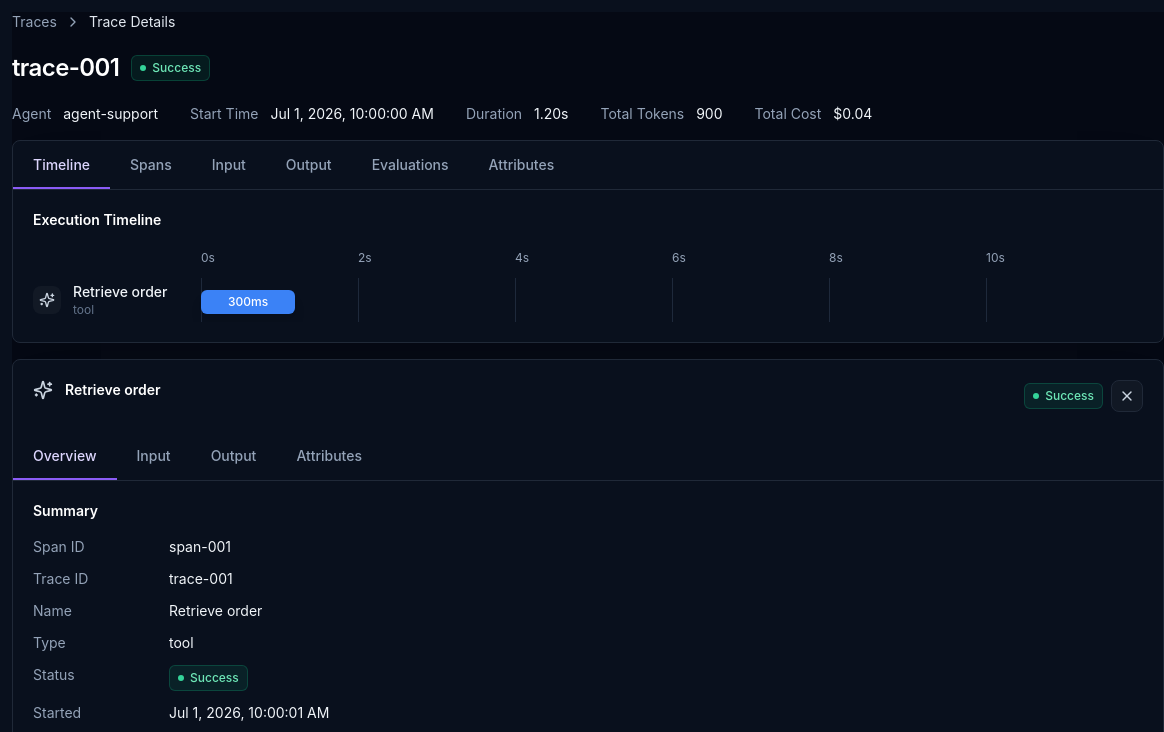
Test: TraceDetailsPage › switches main tabs and shows trace input/output content
The image size is (1164, 732).
Click the 1st tab "Input" at (229, 165), box [192, 141, 266, 189]
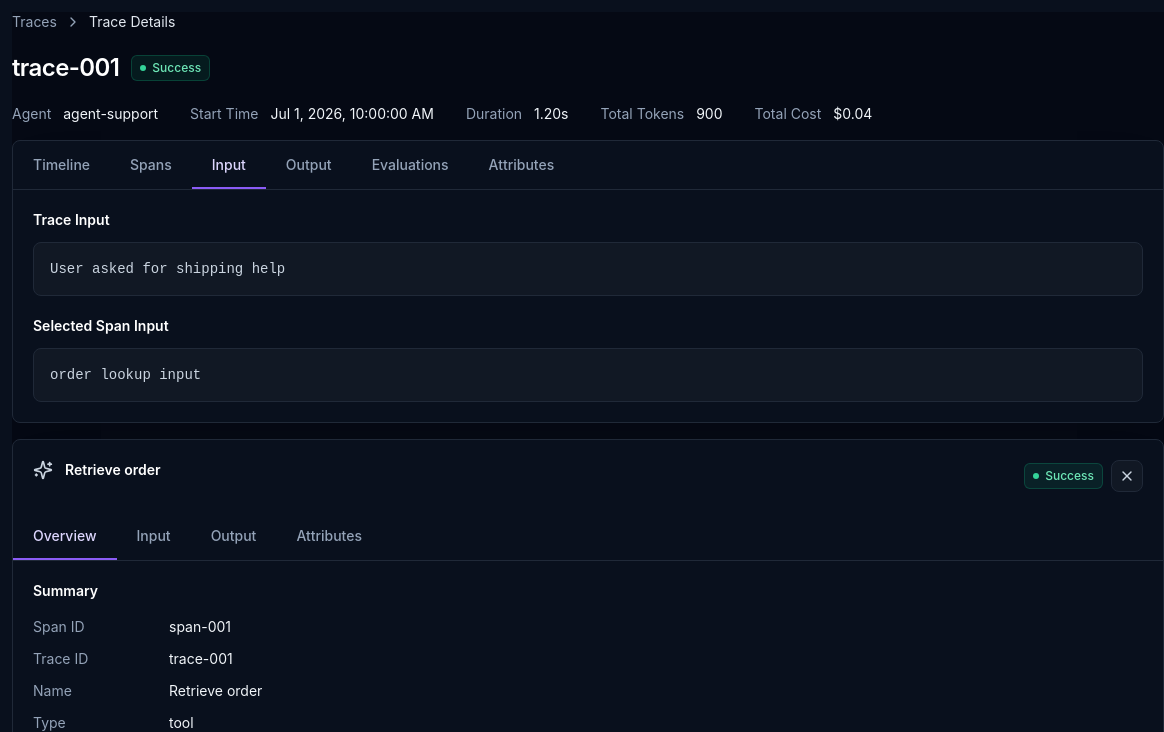
expect the text "User asked for shipping help" is shown: met, box [33, 242, 1143, 296]
Click the 1st tab "Output" at (309, 165), box [266, 141, 352, 189]
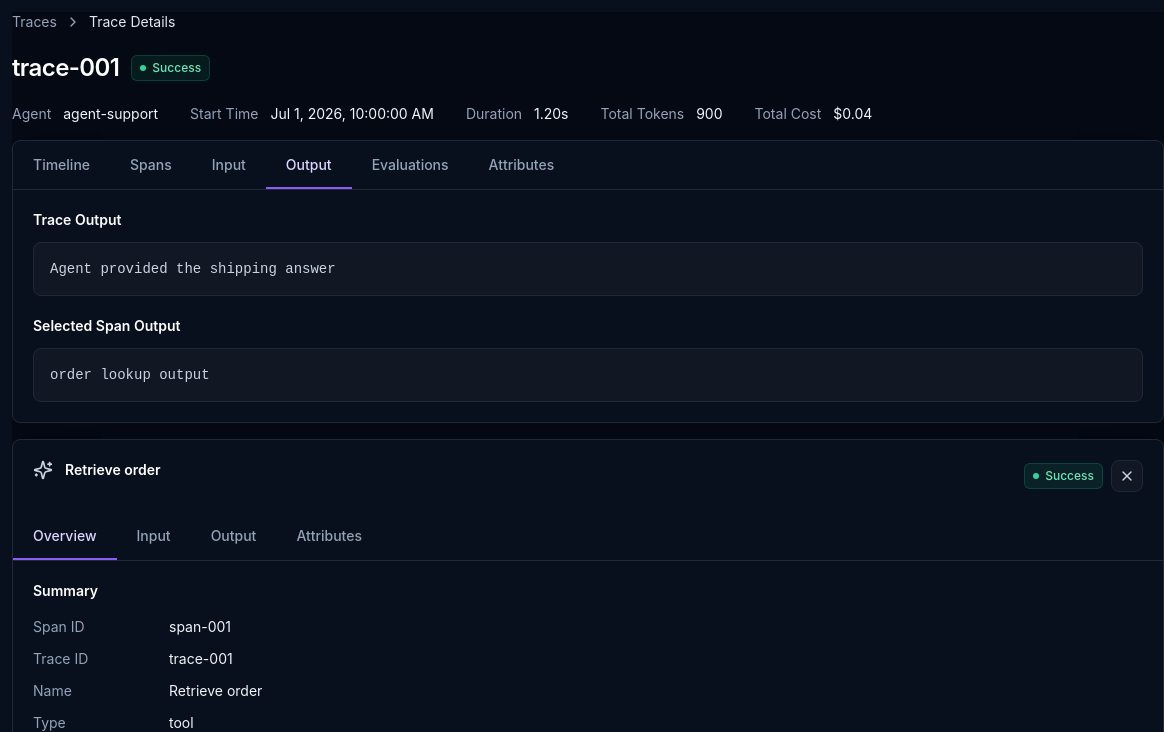
expect the text "Agent provided the shipping answer" is shown: met, box [33, 242, 1143, 296]
